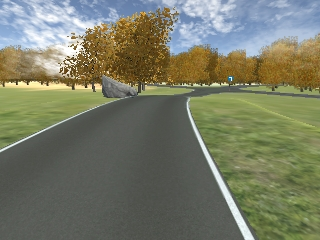left: (227, 76, 234, 82)
